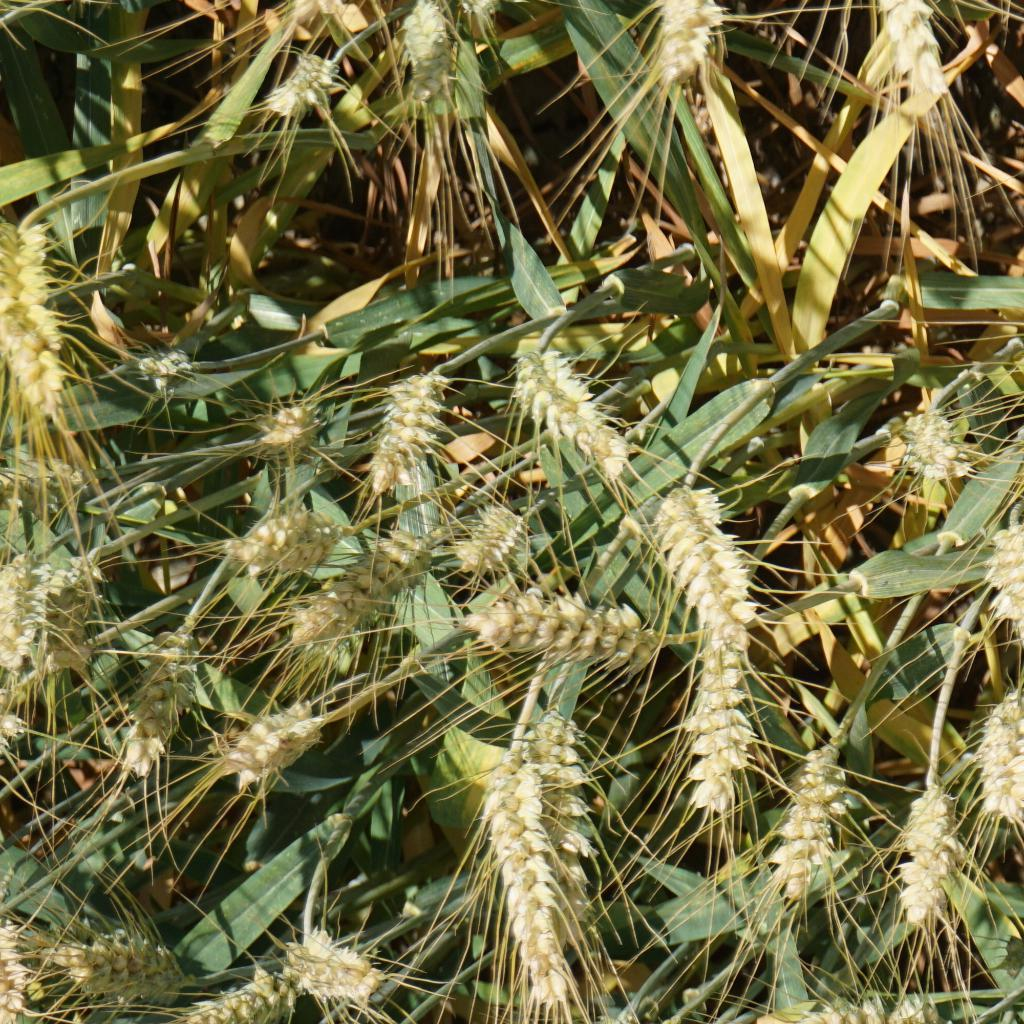0-0: (478, 746, 591, 1011), (284, 522, 442, 666), (0, 223, 90, 434), (524, 699, 595, 953), (644, 476, 760, 631), (684, 610, 764, 821), (764, 736, 849, 920), (105, 623, 200, 785), (508, 345, 623, 477), (453, 584, 651, 660), (878, 768, 967, 915), (359, 368, 465, 491), (214, 693, 323, 797), (264, 920, 386, 1011), (215, 504, 342, 582), (842, 0, 952, 88), (394, 0, 464, 115), (643, 0, 734, 87), (64, 935, 182, 999), (264, 0, 482, 33), (773, 991, 987, 1024), (188, 966, 302, 1022), (982, 681, 1024, 827), (265, 50, 335, 122), (901, 406, 965, 482), (0, 462, 101, 510), (38, 555, 103, 629), (119, 343, 207, 397), (252, 399, 325, 460), (0, 560, 43, 658), (467, 508, 523, 578), (993, 523, 1024, 645), (991, 919, 1024, 985)
